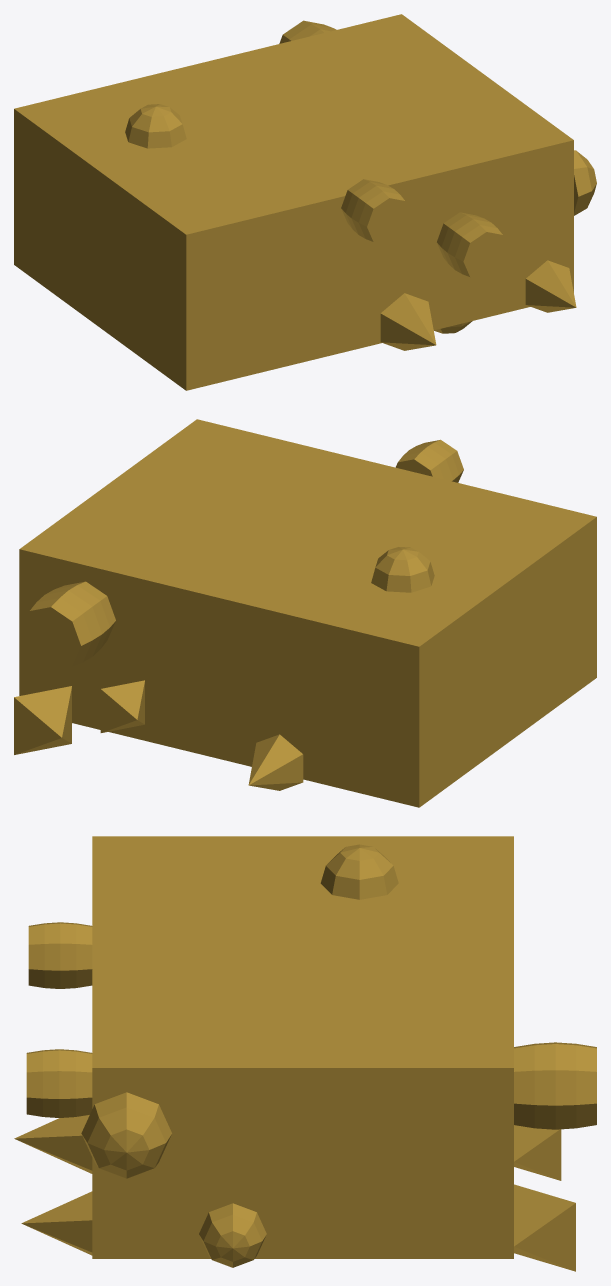
3 renders of one model, top to bottom at view 1: azimuth 30°, elevation 25°; view 2: azimuth 150°, elevation 25°; view 3: azimuth 270°, elevation 25°, orthographic. The views are drawn at different scales.
Visible parts, largest first — view 1: object05_low; view 2: object05_low; view 3: object05_low.
Part boxes in pixels (x1=…): object05_low: x1=14, y1=14, x2=596, y2=390; object05_low: x1=14, y1=419, x2=596, y2=807; object05_low: x1=14, y1=836, x2=596, y2=1271.
Size of the model in its own units: 2.82 by 1.38 by 2.76.
